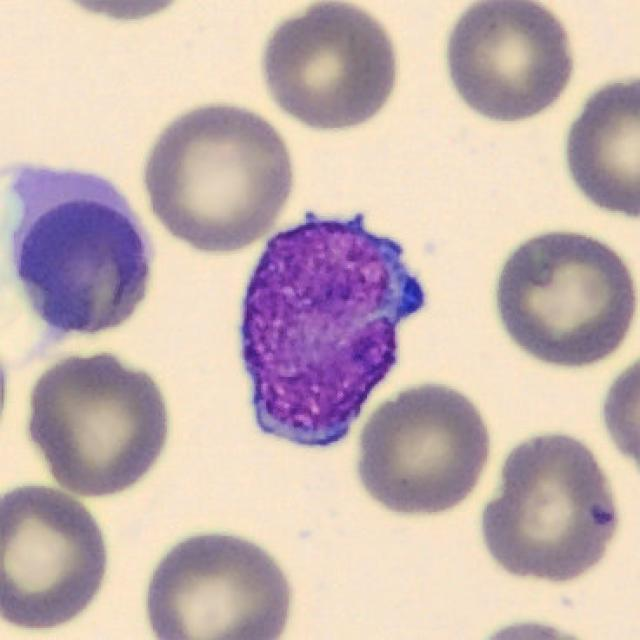Linfocito: (240, 216, 426, 448)
